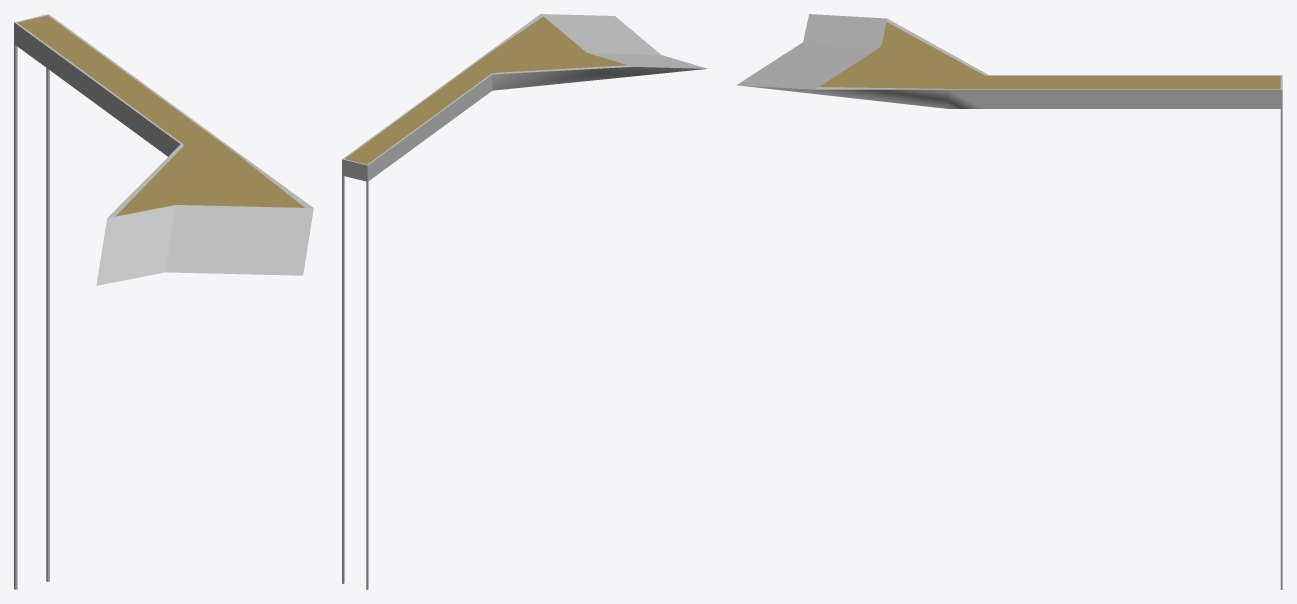
Rendered from Dock.fbx.
3 renders of one model, left to right at view 1: azimuth 30°, elevation 25°; view 2: azimuth 150°, elevation 25°; view 3: azimuth 270°, elevation 25°, orthographic. The views are drawn at different scales.
Visible parts, largest first — view 1: Dock1; view 2: Dock1; view 3: Dock1.
Boxes of the visible parts, bbox=[...] form: Dock1: bbox=[14, 14, 313, 589]; Dock1: bbox=[342, 14, 707, 589]; Dock1: bbox=[736, 14, 1282, 589].
Bounding box in the file's own units: 10.63 × 26.1 × 25.85.
